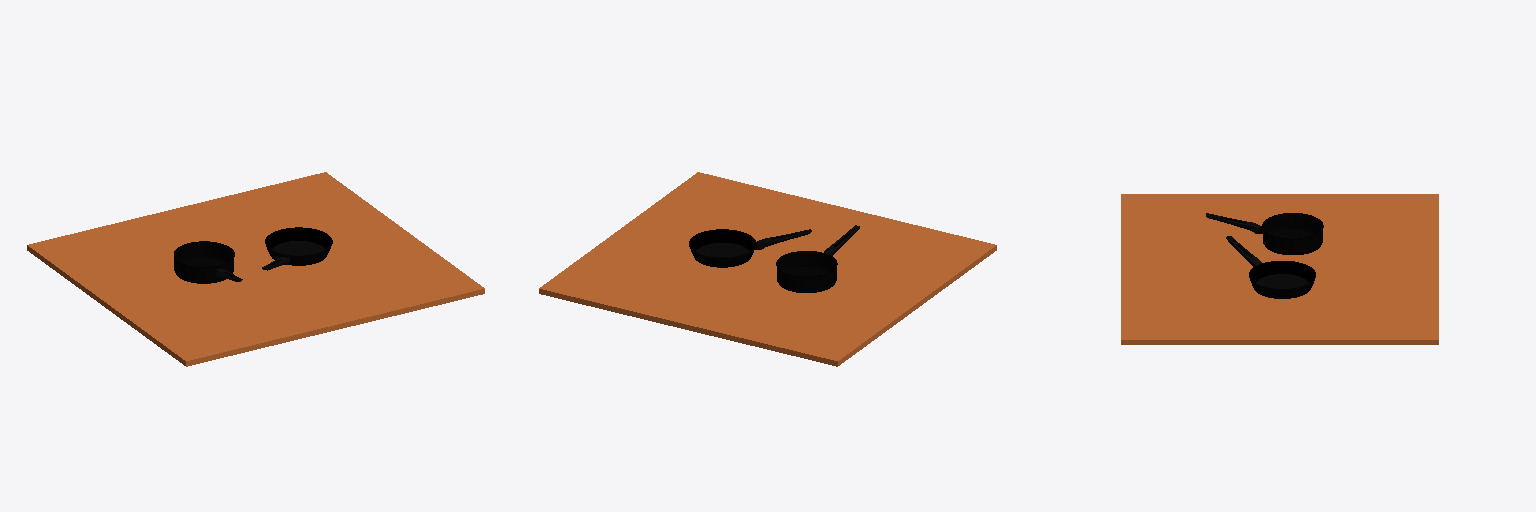
The model's file is pans0.obj.
3 renders of one model, left to right at view 1: azimuth 30°, elevation 25°; view 2: azimuth 150°, elevation 25°; view 3: azimuth 270°, elevation 25°, orthographic.
Visible parts, largest first — view 1: Cube.001, Cylinder.003, Cylinder.005_Cylinder.005_Cylinder.005_Cylinder.005_Cylinder.005; view 2: Cube.001, Cylinder.003, Cylinder.005_Cylinder.005_Cylinder.005_Cylinder.005_Cylinder.005; view 3: Cube.001, Cylinder.003, Cylinder.005_Cylinder.005_Cylinder.005_Cylinder.005_Cylinder.005.
Part boxes in pixels (x1,y1,x2,y2): Cube.001: (27, 172, 484, 366); Cylinder.003: (174, 241, 242, 283); Cylinder.005_Cylinder.005_Cylinder.005_Cylinder.005_Cylinder.005: (262, 227, 332, 270); Cube.001: (539, 172, 996, 366); Cylinder.003: (776, 225, 859, 292); Cylinder.005_Cylinder.005_Cylinder.005_Cylinder.005_Cylinder.005: (689, 229, 811, 267); Cube.001: (1121, 194, 1438, 344); Cylinder.003: (1206, 213, 1323, 254); Cylinder.005_Cylinder.005_Cylinder.005_Cylinder.005_Cylinder.005: (1226, 236, 1315, 298).
Size of the model in its own units: 17.23 by 1.77 by 15.9.